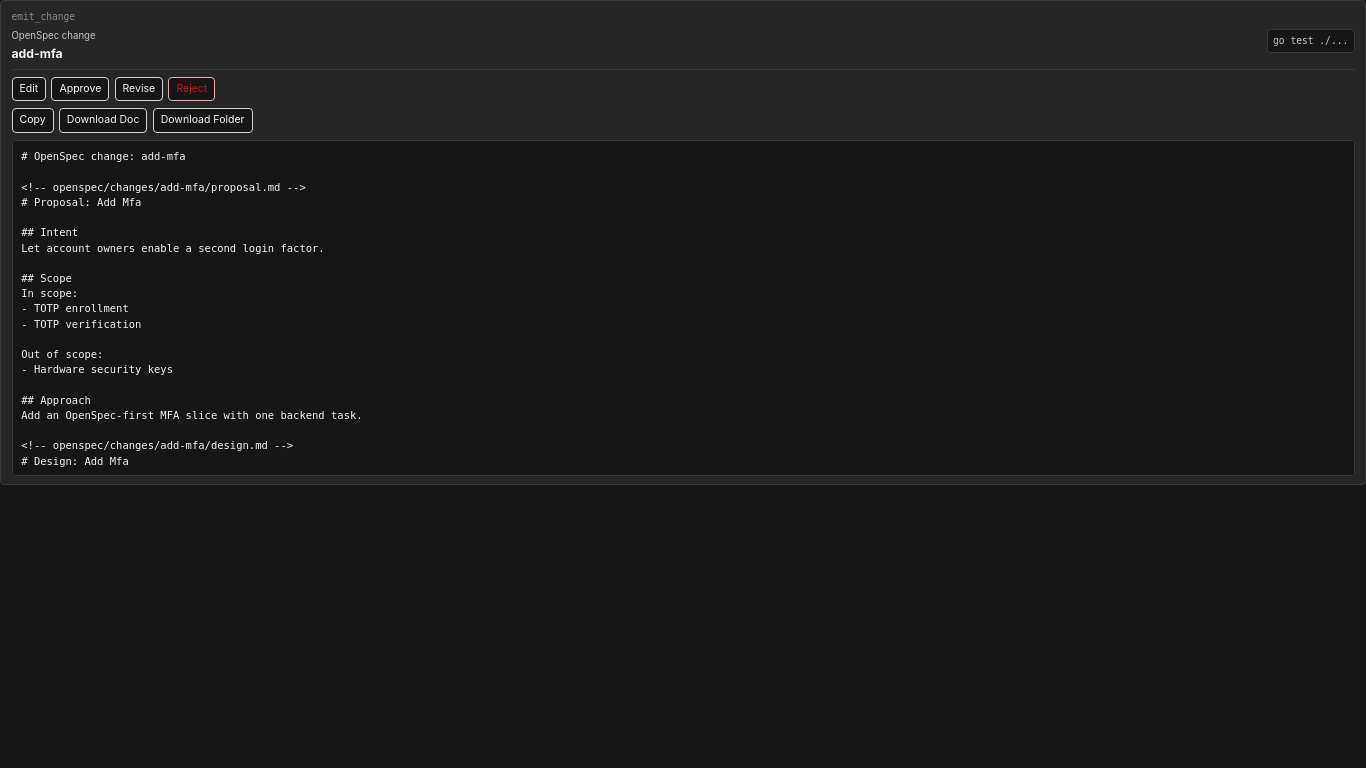
Test: ArtifactCard › surfaces the implementation handoff command after approval
Click the button with test id "openspec-approve" at (80, 89), box [52,76,109,101]
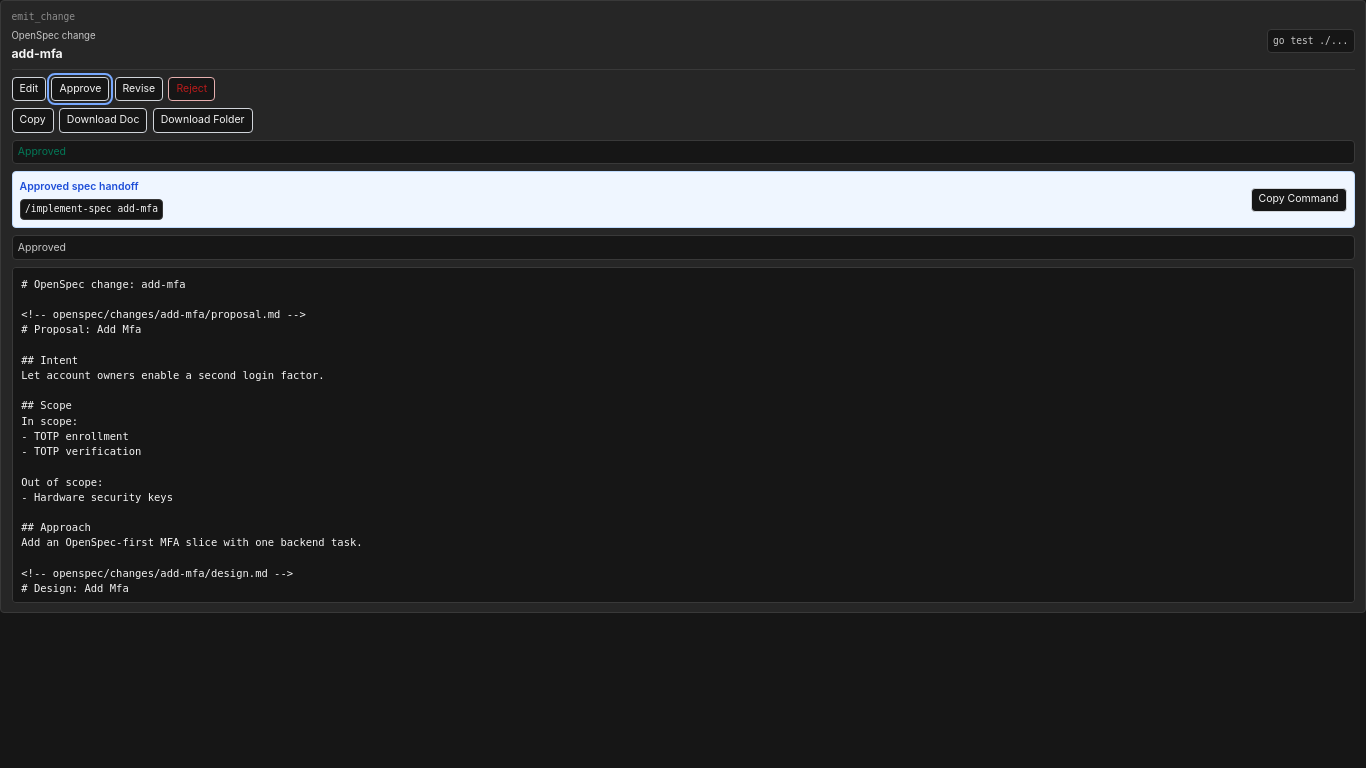
Check: the message with test id "openspec-implementation-handoff" shows "Approved spec handoff", box [20,180,139,193]
Check: the text with test id "openspec-implementation-command" reads "/implement-spec add-mfa", box [25,203,158,214]
Click the button with test id "openspec-copy-implementation" at (1299, 200), box [1251,188,1346,212]
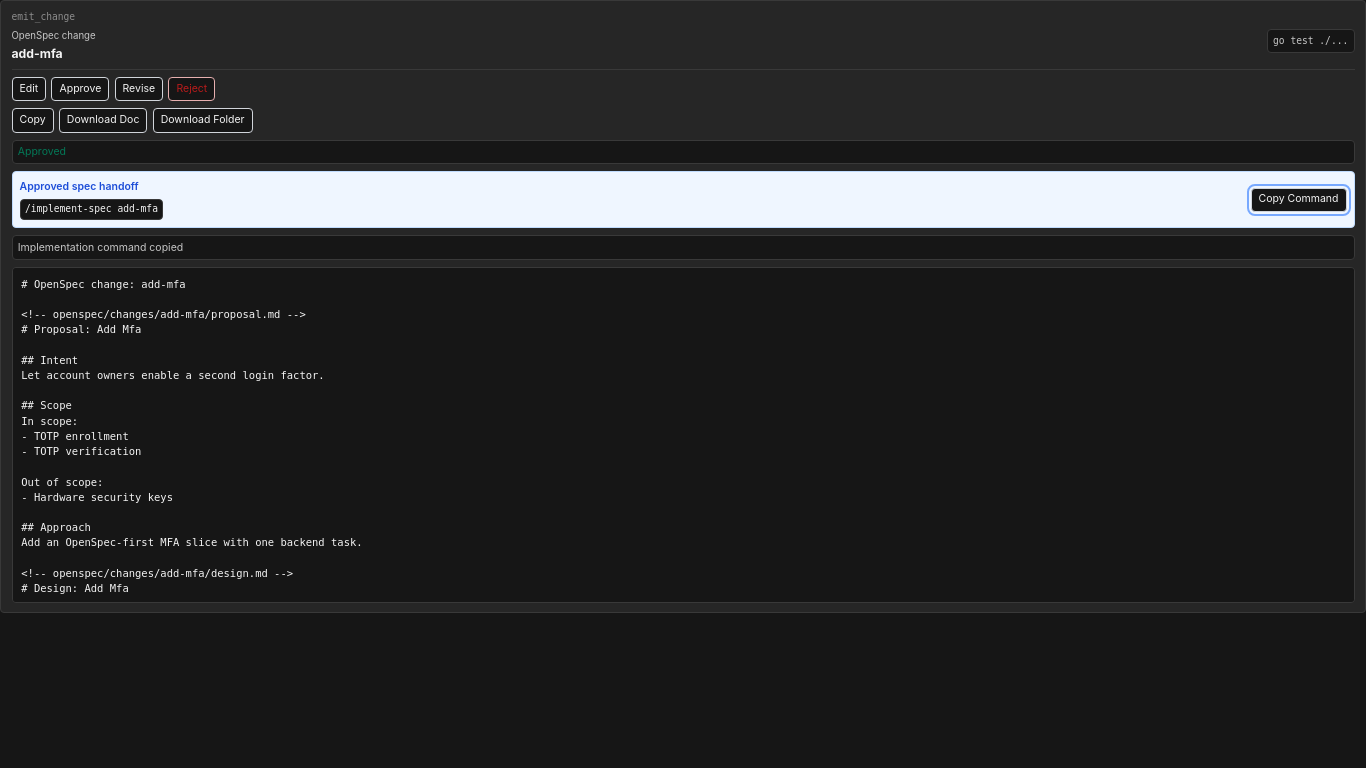
Check: the message with test id "openspec-export-state" reads "Implementation command copied", box [18,241,183,254]
